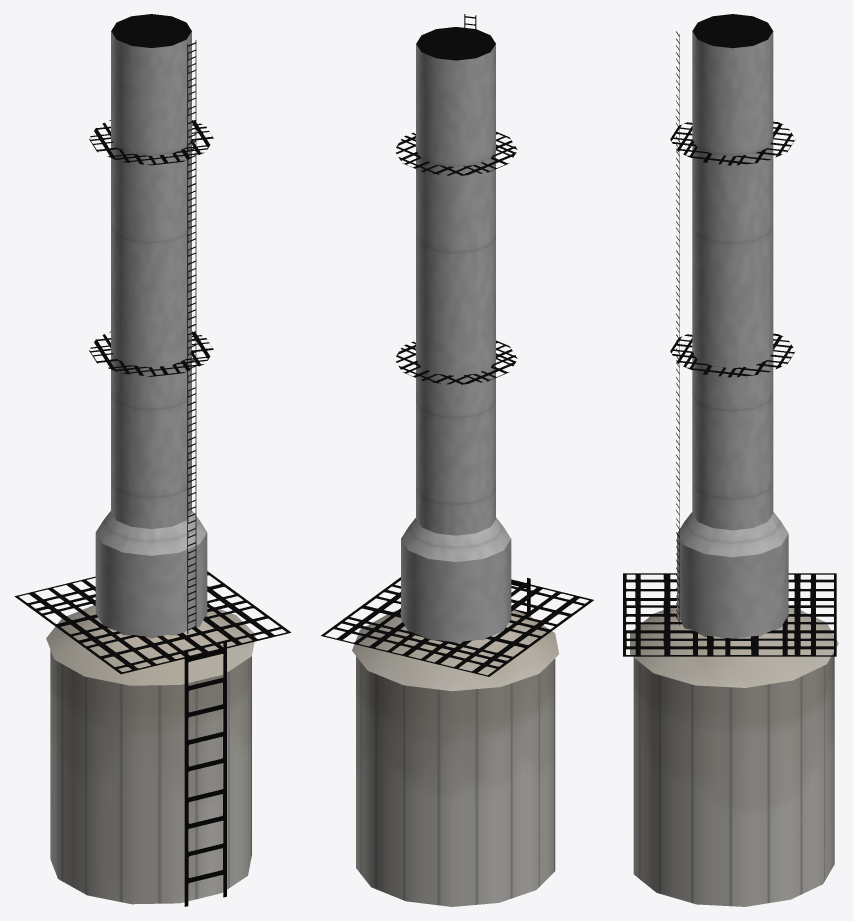
The model's file is Industrialobjects1.fbx.
The picture shows the model from 3 angles, left to right: view 1: azimuth 30°, elevation 25°; view 2: azimuth 150°, elevation 25°; view 3: azimuth 270°, elevation 25°; orthographic projection.
Parts seen in each view (by area): view 1: industrcont, Industrtube; view 2: industrcont, Industrtube; view 3: industrcont, Industrtube.
Part boxes in pixels (x1,y1,x2,y2): industrcont: (14,571,290,906); Industrtube: (89,14,213,638); industrcont: (321,577,593,906); Industrtube: (396,14,517,642); industrcont: (623,573,838,906); Industrtube: (670,14,795,638).
Size of the model in its own units: 1043 by 4587 by 1069.
1 material, 1 textured.
